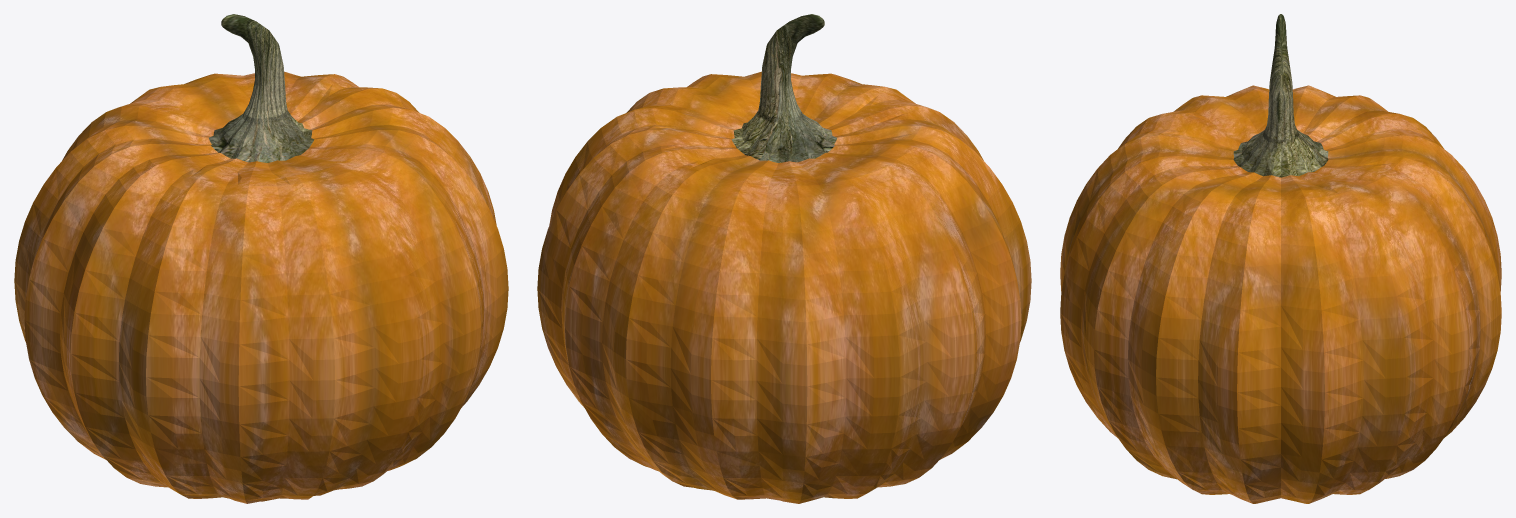
Rendered from pumpkin.obj.
3 renders of one model, left to right at view 1: azimuth 30°, elevation 25°; view 2: azimuth 150°, elevation 25°; view 3: azimuth 270°, elevation 25°, orthographic. The views are drawn at different scales.
Parts seen in each view (by area): view 1: Object.1; view 2: Object.1; view 3: Object.1.
Boxes of the visible parts, <box> form: Object.1: <box>14,14,508,503</box>; Object.1: <box>537,14,1031,503</box>; Object.1: <box>1060,14,1501,503</box>.
Size of the model in its own units: 163 by 162 by 154.
